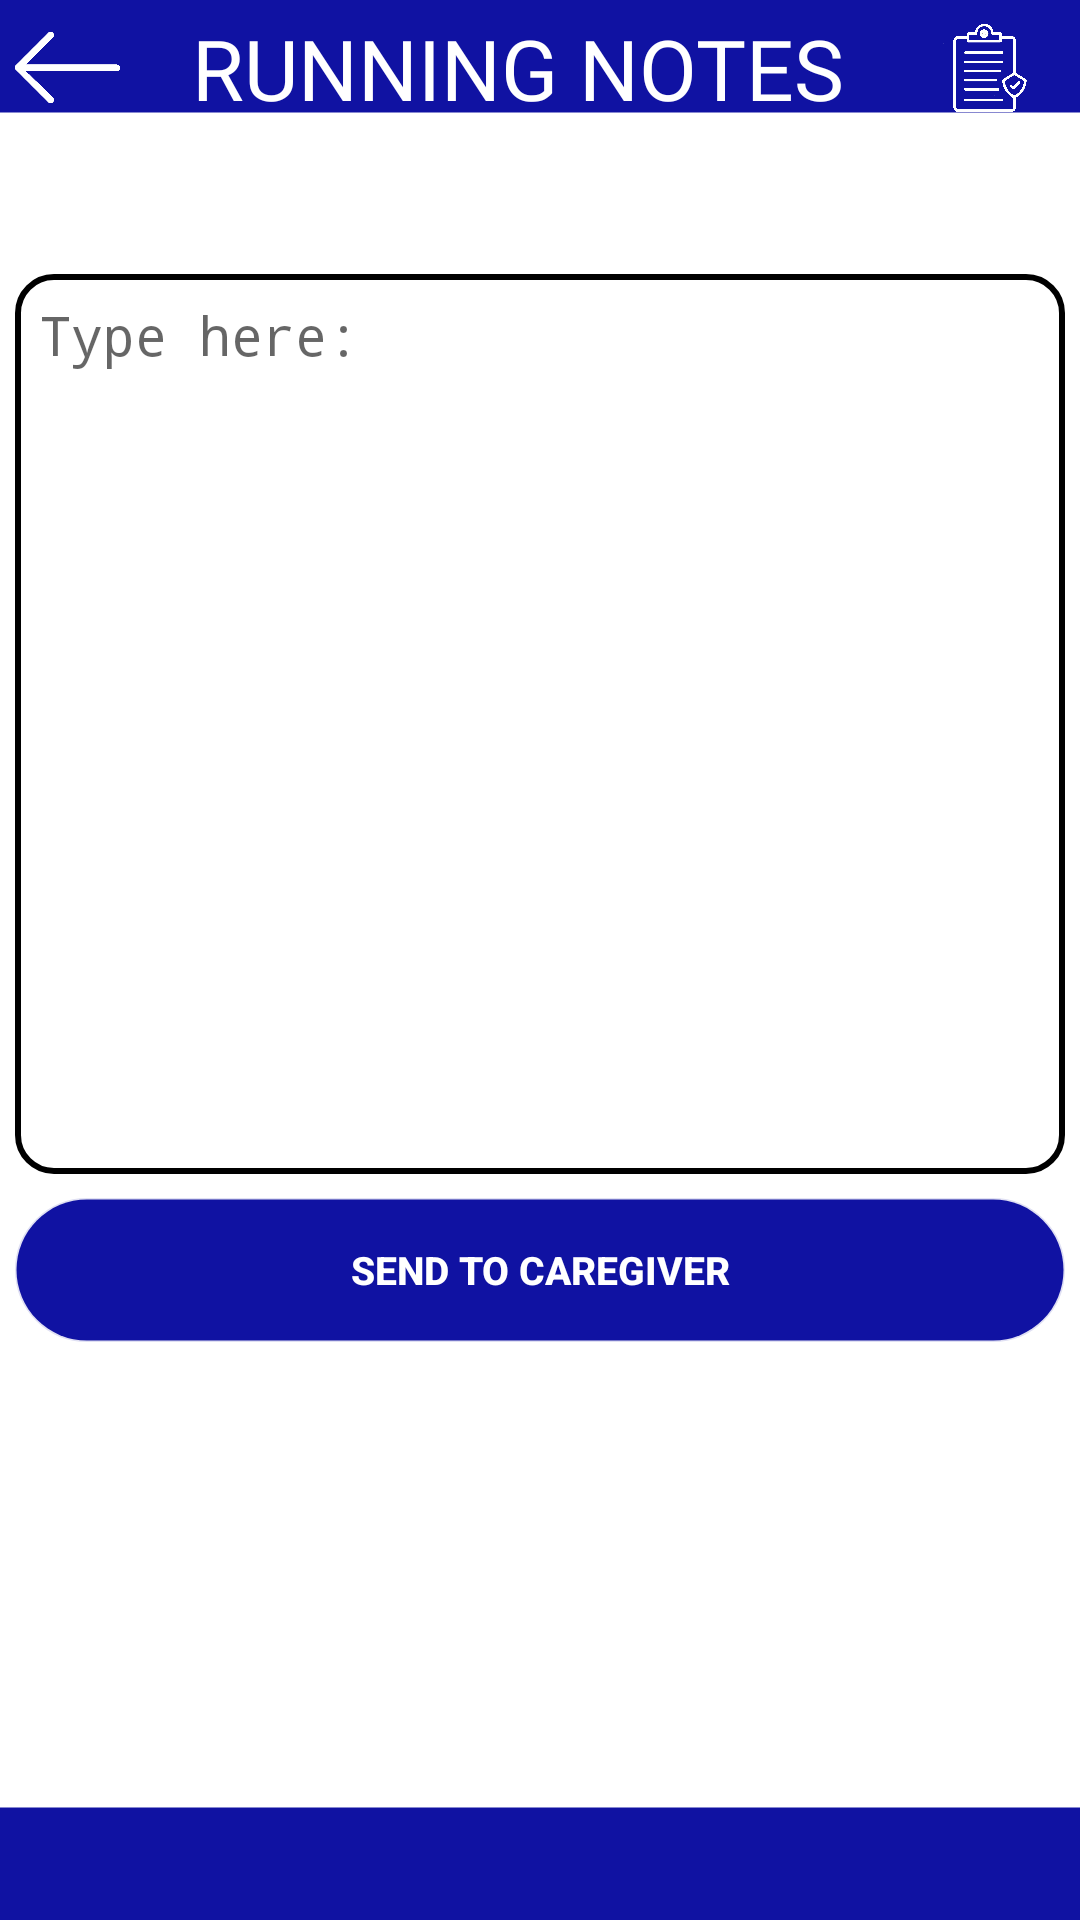

Point at icon controls on the screen. Image size 1080 x 1920, points as (x,y).
back: (67,67)
